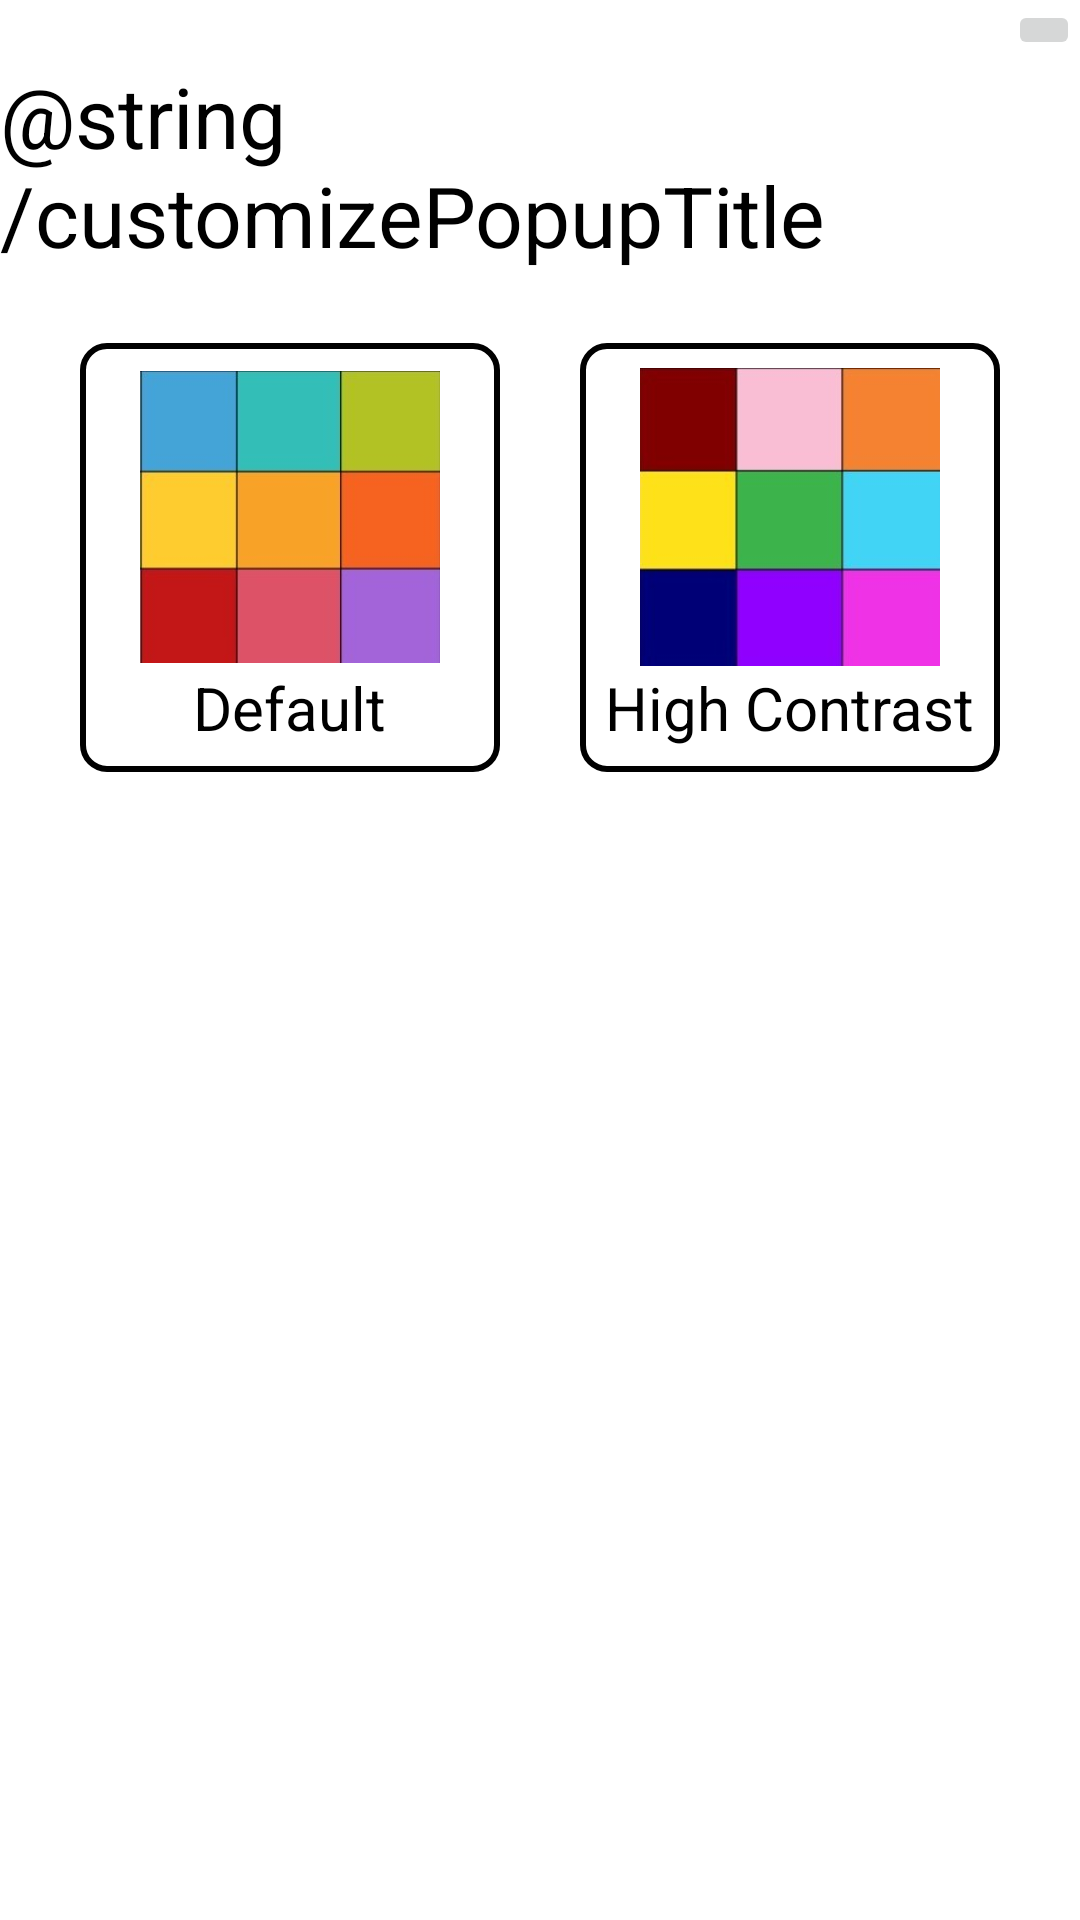

Screen size 1080 x 1920. Icon name, then its box in pixels as (x1, y1, x2, y2):
altcolorpalette: (640, 368, 940, 666)
